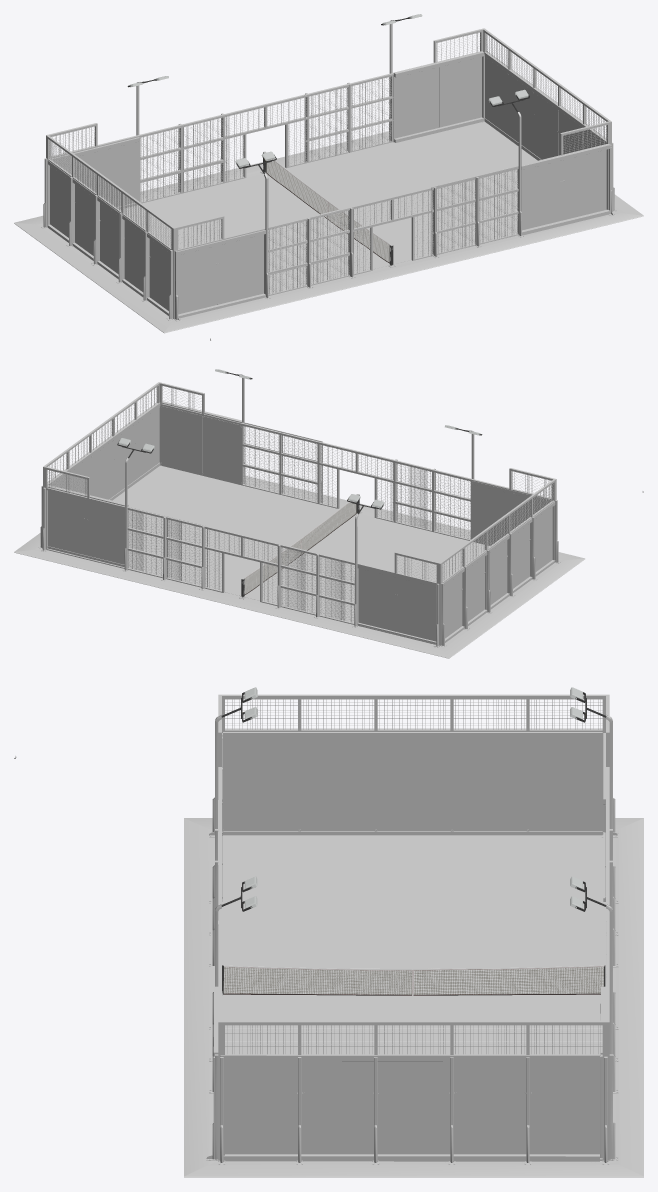
The model's file is paddle-compressed.glb.
The picture shows the model from 3 angles, top to bottom: view 1: azimuth 30°, elevation 25°; view 2: azimuth 150°, elevation 25°; view 3: azimuth 270°, elevation 25°; orthographic projection. The views are drawn at different scales.
Visible parts, largest first — view 1: Turf, GlassWalls, Mesh, Frame, Empty_Mesh.001, Empty_Mesh, Lights, MetalFrame 02, Net, MetalFrame 01, RejaD.003, RejaD.002 (+7 smaller); view 2: Turf, GlassWalls, Mesh, Frame, MetalFrame 02, Lights, Empty_Mesh, Empty_Mesh.001, Net, RejaD.007, RejaD.006, MetalFrame 01 (+5 smaller); view 3: Turf, GlassWalls, Mesh, Frame, Net, Empty_Mesh.001, Empty_Mesh, Lights, MetalFrame 02, MetalFrame 01, Frame.002.
Boxes of the visible parts, left/top/right/bottom form: Turf: left=14, top=122, right=643, bottom=333; GlassWalls: left=50, top=56, right=606, bottom=314; Mesh: left=49, top=33, right=606, bottom=294; Frame: left=46, top=28, right=611, bottom=295; Empty_Mesh.001: left=393, top=51, right=610, bottom=235; Empty_Mesh: left=47, top=137, right=265, bottom=318; Lights: left=127, top=14, right=529, bottom=299; MetalFrame 02: left=41, top=51, right=616, bottom=320; Net: left=260, top=151, right=395, bottom=267; MetalFrame 01: left=176, top=82, right=481, bottom=288; RejaD.003: left=431, top=176, right=475, bottom=256; RejaD.002: left=476, top=166, right=518, bottom=244; Turf: left=14, top=465, right=585, bottom=658; GlassWalls: left=48, top=406, right=552, bottom=641; Mesh: left=47, top=386, right=553, bottom=621; Frame: left=43, top=382, right=556, bottom=644; MetalFrame 02: left=38, top=485, right=560, bottom=647; Lights: left=117, top=369, right=482, bottom=627; Empty_Mesh: left=357, top=481, right=555, bottom=643; Empty_Mesh.001: left=47, top=401, right=241, bottom=567; Net: left=239, top=494, right=361, bottom=599; RejaD.007: left=277, top=546, right=315, bottom=613; RejaD.006: left=320, top=558, right=358, bottom=622; MetalFrame 01: left=161, top=445, right=438, bottom=618; Turf: left=184, top=818, right=643, bottom=1177; GlassWalls: left=222, top=734, right=605, bottom=1154; Mesh: left=225, top=699, right=602, bottom=1055; Frame: left=218, top=694, right=609, bottom=1160; Net: left=222, top=965, right=605, bottom=995; Empty_Mesh.001: left=213, top=986, right=605, bottom=1162; Empty_Mesh: left=222, top=732, right=605, bottom=901; Lights: left=209, top=687, right=618, bottom=1093; MetalFrame 02: left=209, top=797, right=618, bottom=1164; MetalFrame 01: left=209, top=829, right=618, bottom=1061; Frame.002: left=218, top=1059, right=609, bottom=1160.
Size of the model in its own units: 22.08 by 5.78 by 16.09.
1 material, 1 textured.
